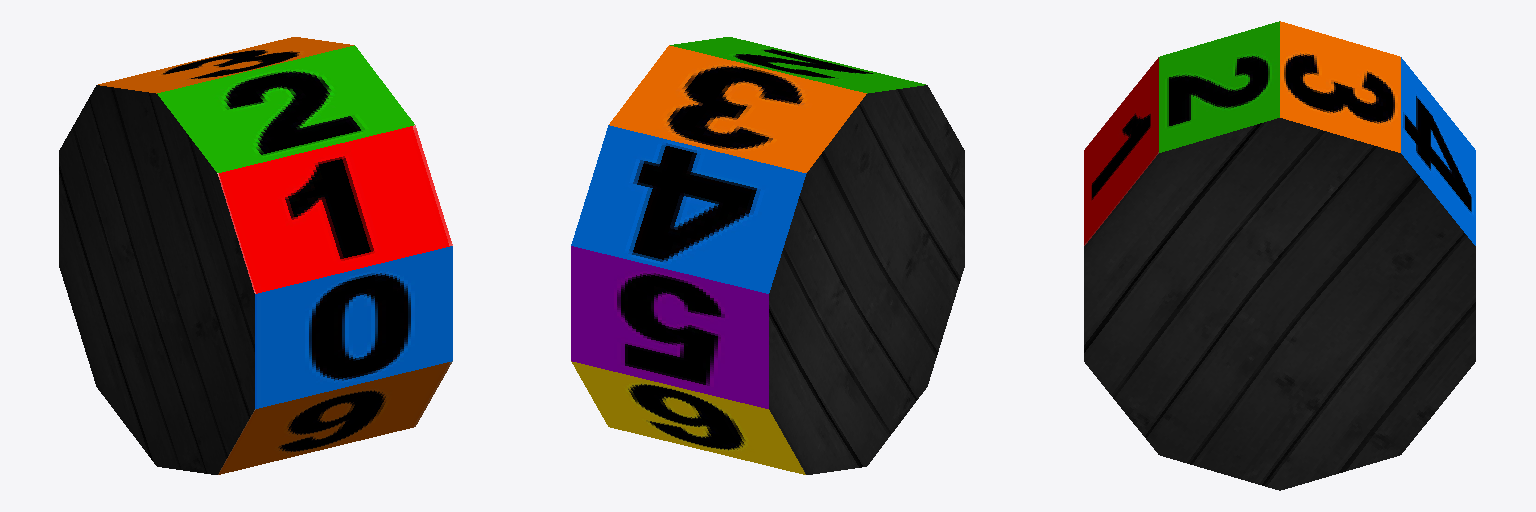
3 views of the same model, side by side, from view 1: azimuth 30°, elevation 25°; view 2: azimuth 150°, elevation 25°; view 3: azimuth 270°, elevation 25° (orthographic).
Visible parts, largest first — view 1: pCylinder1; view 2: pCylinder1; view 3: pCylinder1.
Boxes of the visible parts, x1=… form: pCylinder1: x1=59, y1=37, x2=452, y2=474; pCylinder1: x1=571, y1=37, x2=964, y2=474; pCylinder1: x1=1084, y1=21, x2=1475, y2=490.
Size of the model in its own units: 0.5 by 0.9 by 0.856.
Materials: 1 (1 with a texture image).